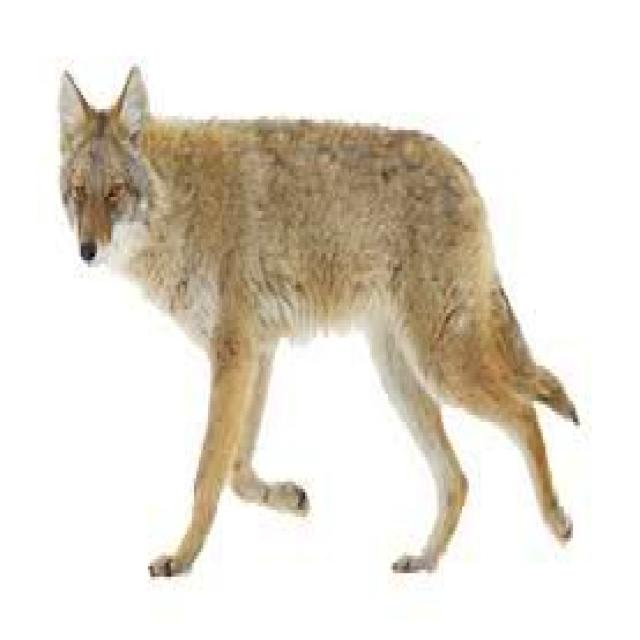coyote: (60, 67, 578, 573)
